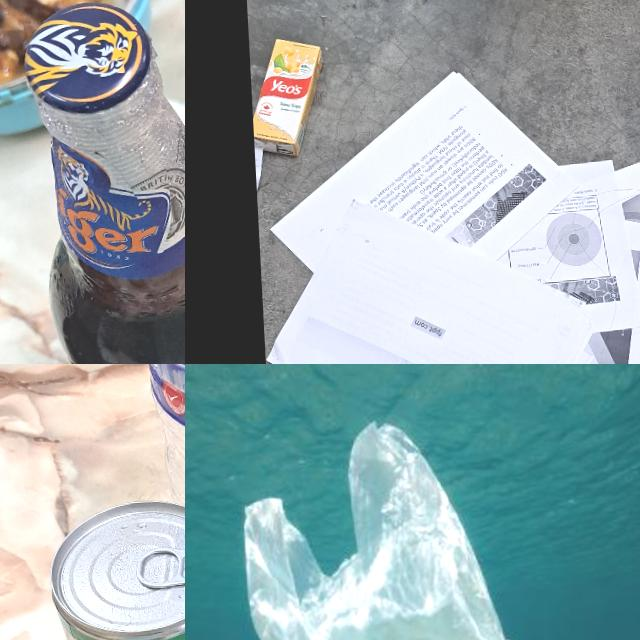aba de lata: (140, 546, 185, 587)
caixinha: (250, 33, 328, 160)
garrafa de vidro: (18, 0, 185, 364)
garrafa plástica: (132, 364, 185, 640)
lata: (44, 497, 185, 640)
papel: (253, 58, 640, 364), (254, 141, 276, 364)
sacola plástica: (230, 413, 554, 640)
